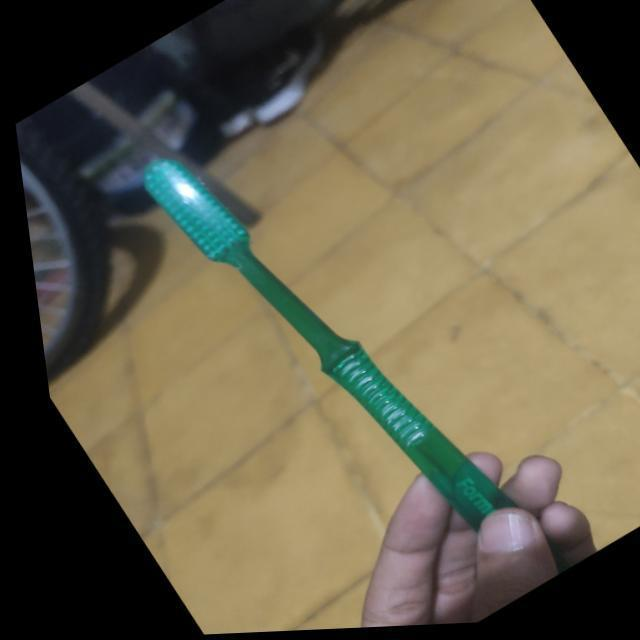toothbrush: (64, 58, 556, 638)
